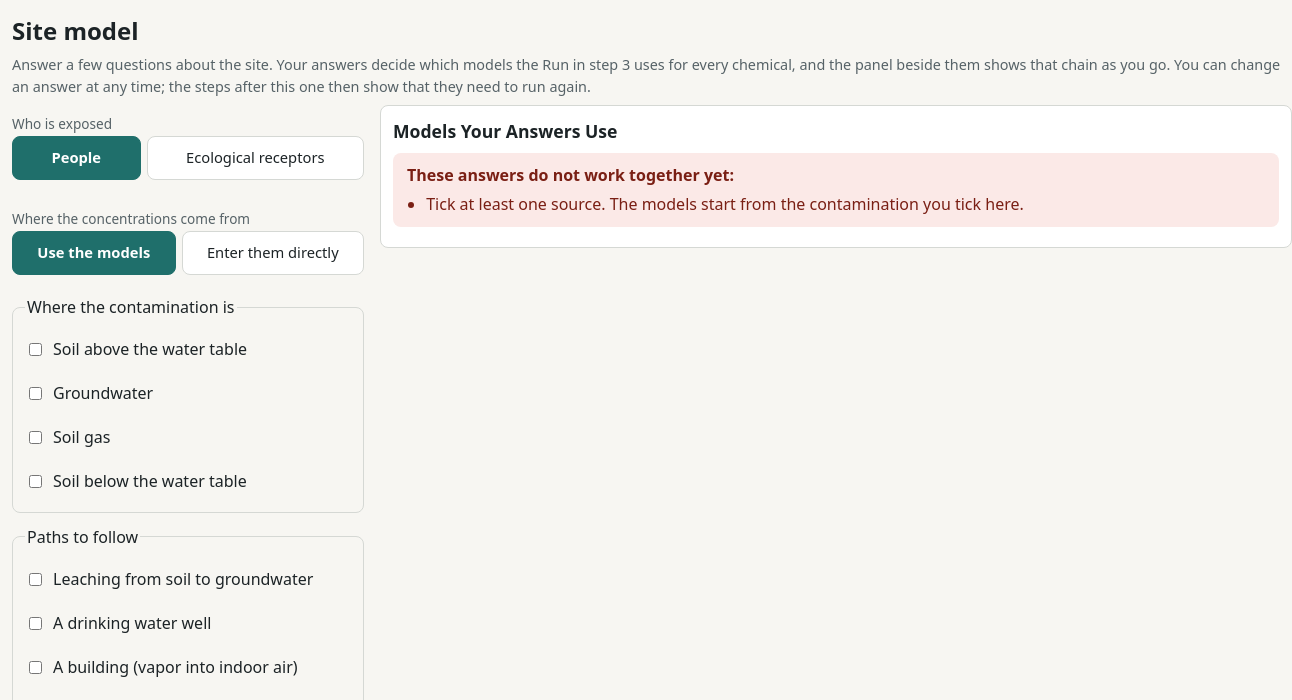
Test case: SiteStep › allows groundwater and soil gas together (two media)
This screenshot has width=1292, height=700.
What coordinates should you click on to do the following:
click the checkbox labelled "Groundwater"
I would click on:
 (36, 394)
Its box is top-left (29, 387), bottom-right (42, 400).
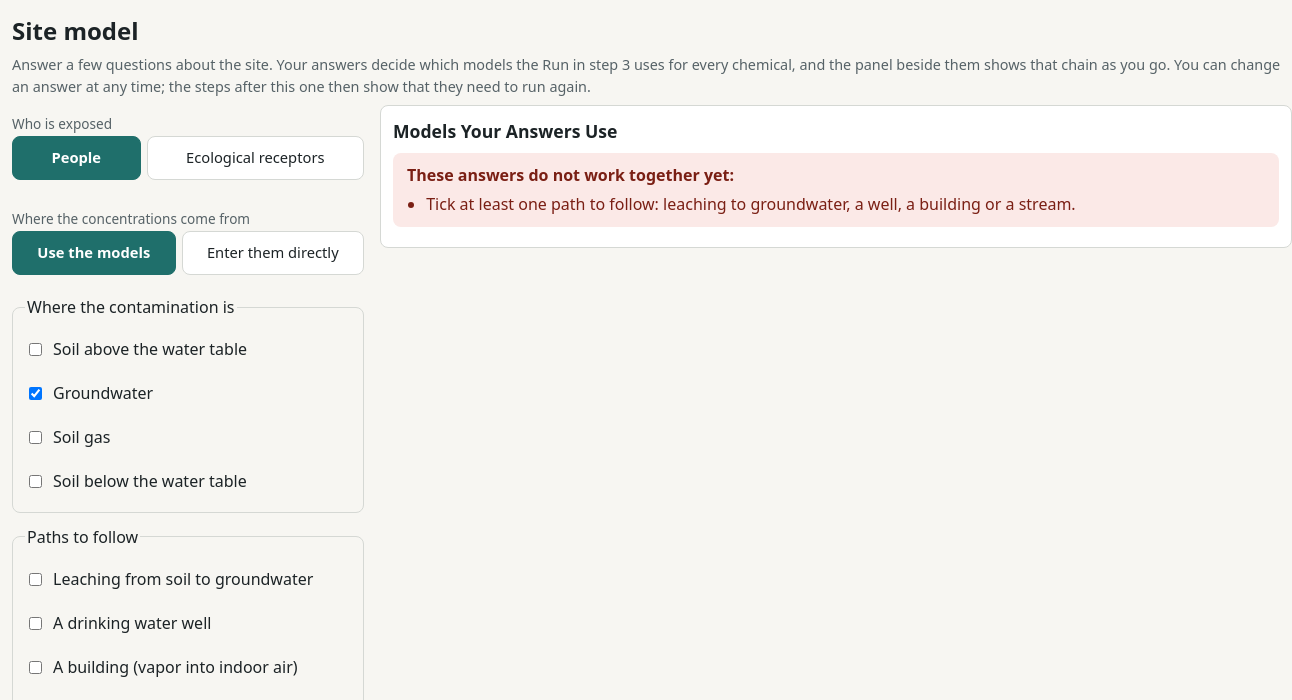
What coordinates should you click on to do the following:
click the checkbox labelled "Soil gas"
I would click on:
 (36, 438)
Its box is top-left (29, 431), bottom-right (42, 444).
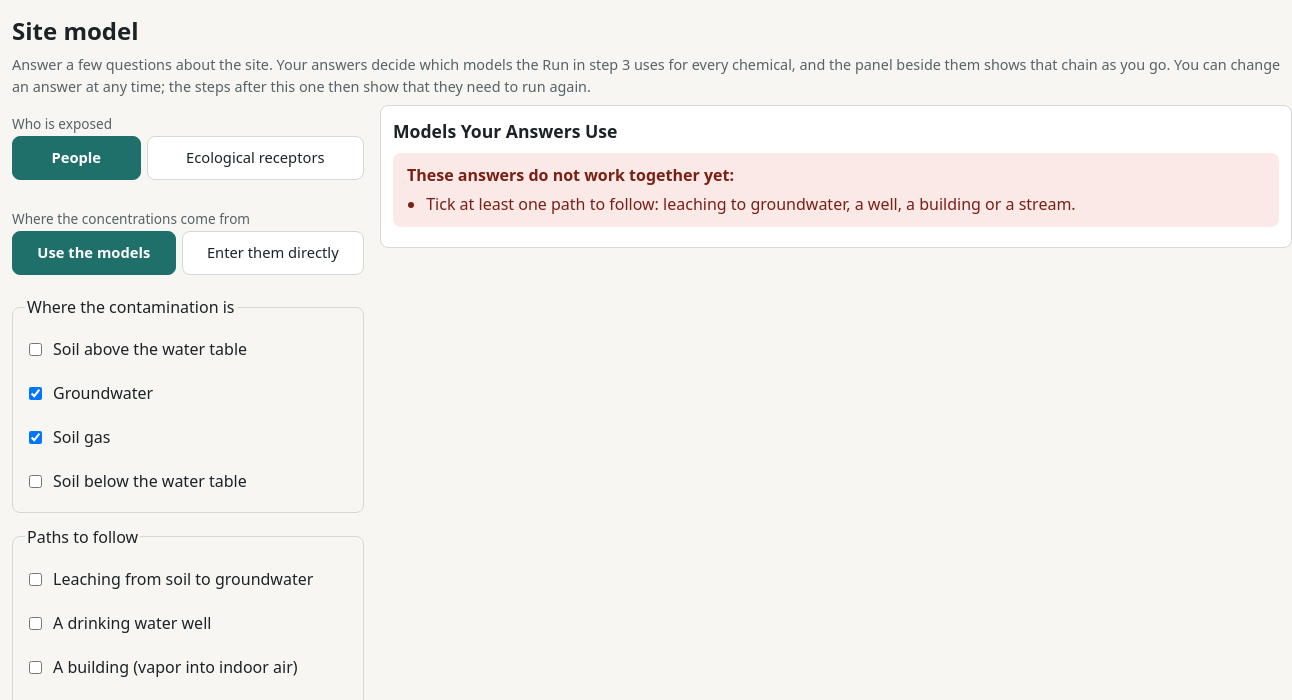
What coordinates should you click on to do the following:
click the checkbox labelled "A drinking water well"
I would click on:
 (36, 623)
Its box is top-left (29, 617), bottom-right (42, 630).
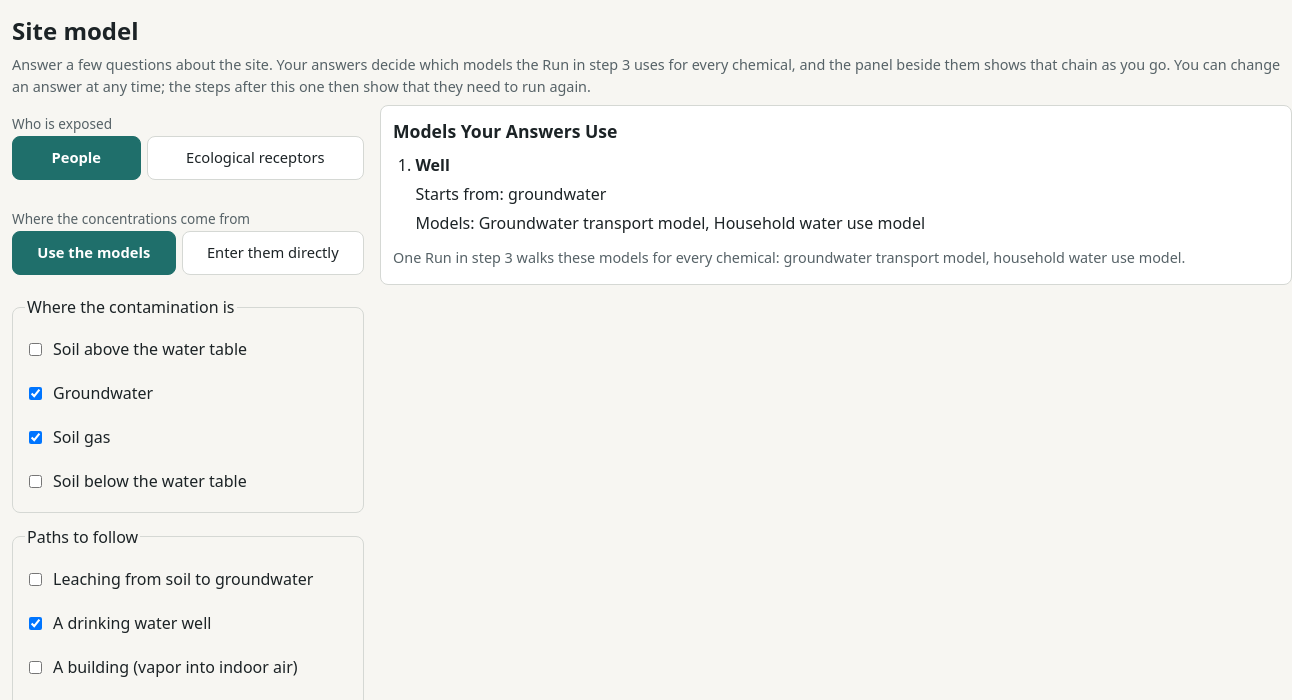
What coordinates should you click on to do the following:
click the checkbox labelled "A building (vapor into indoor air)"
I would click on:
 (36, 667)
Its box is top-left (29, 661), bottom-right (42, 674).
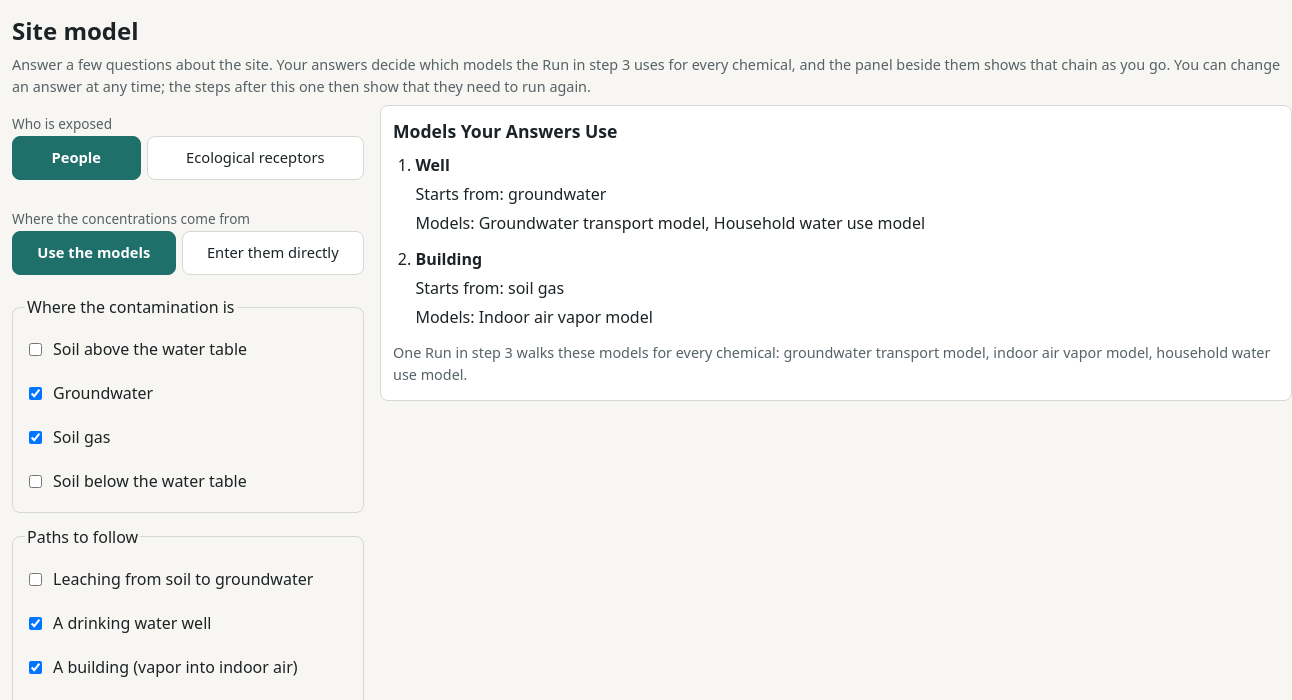
expect the element "Models your answers use" shows "Starts from: groundwater": met, box top-left (380, 105), bottom-right (1291, 401)
expect the element "Models your answers use" shows "starts from: soil gas": met, box top-left (380, 105), bottom-right (1291, 401)
